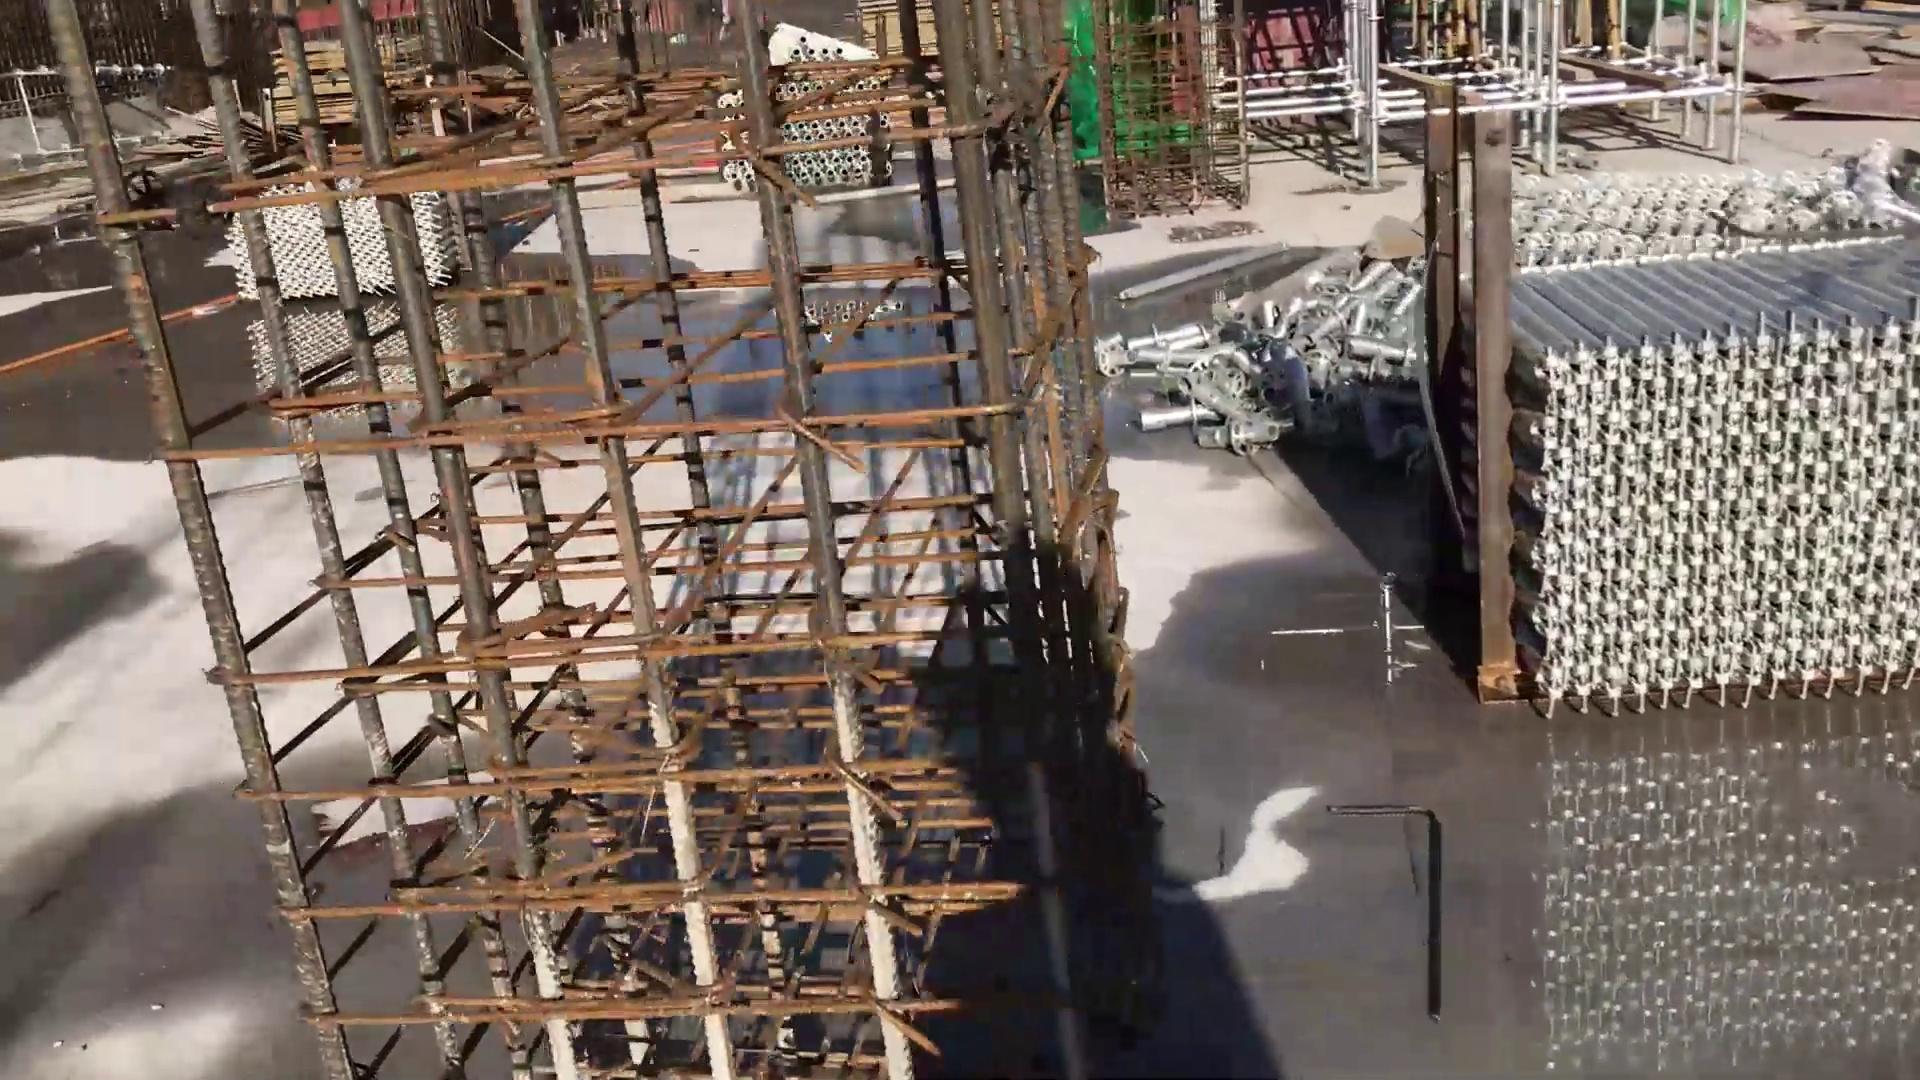scaffold: (1482, 142, 1913, 754)
